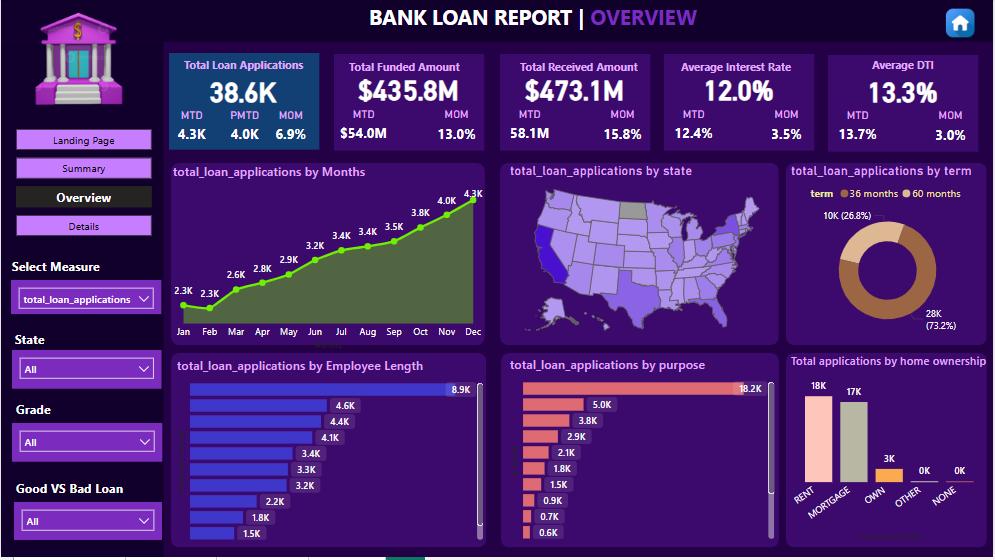

What the dashboard file says about the page in this screenshot:
{"tool":"powerbi","page":{"name":"Overview","canvas":[1280,720],"ordinal":2},"visuals":[{"type":"shape","box":[0,0,1279.8,55.3],"z":0},{"type":"shape","box":[0,55.3,209.8,664.7],"z":1000},{"type":"textbox","box":[469.1,0,443.6,56.7],"z":2000},{"type":"group","id":"g1","title":"Group 1","box":[206.9,69.4,206.9,124.7],"z":3000},{"type":"group","id":"g2","title":"Group 1","box":[428,70.9,199.8,124.7],"z":4000},{"type":"group","id":"g3","title":"Group 1","box":[642,70.9,198.4,124.7],"z":5000},{"type":"group","id":"g4","title":"Group 1","box":[854.6,70.9,197,124.7],"z":6000},{"type":"group","id":"g5","title":"Group 1","box":[1065.8,69.4,197,127.6],"z":7000},{"type":"shape","box":[216.8,69.4,194.2,124.7],"z":8000,"group":"g1"},{"type":"shape","box":[429,70.9,194.2,124.7],"z":8000,"group":"g2"},{"type":"shape","box":[643,70.9,194.2,124.7],"z":8000,"group":"g3"},{"type":"shape","box":[855.6,70.9,194.2,124.7],"z":8000,"group":"g4"},{"type":"shape","box":[1066.8,72.5,194.2,124.7],"z":8000,"group":"g5"},{"type":"group","id":"g6","title":"Group 2","box":[219.7,211.2,405,235],"z":8000},{"type":"shape","box":[219.7,211.2,405,235],"z":8000,"group":"g6"},{"type":"shape","box":[643.5,211.2,359.7,235],"z":8000,"group":"g10"},{"type":"shape","box":[1013.4,211.2,259.1,235],"z":8000,"group":"g11"},{"type":"shape","box":[219.7,456.4,406.8,250.9],"z":8000,"group":"g12"},{"type":"shape","box":[644.9,456.4,358.6,250.9],"z":8000,"group":"g13"},{"type":"shape","box":[1013.4,456.4,259.4,250.9],"z":8000,"group":"g14"},{"type":"card","fields":{"Values":["All Measures.Total Funded Amount"]},"box":[428,89.5,194.2,51],"z":8500,"group":"g2"},{"type":"card","fields":{"Values":["All Measures.Total Amount Received"]},"box":[642,89.5,194.2,51],"z":8500,"group":"g3"},{"type":"card","fields":{"Values":["All Measures.AVG interest rate"]},"box":[854.6,89.5,194.2,51],"z":8500,"group":"g4"},{"type":"card","fields":{"Values":["All Measures.AVG DTI"]},"box":[1065.8,91.1,194.2,51],"z":8500,"group":"g5"},{"type":"card","fields":{"Values":["All Measures.total_loan_applications"]},"box":[256.8,95.1,110.6,43.9],"z":8500,"group":"g1"},{"type":"textbox","box":[231,69.4,182.8,31.2],"z":9000,"group":"g1"},{"type":"textbox","box":[1118.2,69.4,137.5,35.4],"z":9000,"group":"g5"},{"type":"textbox","box":[443.9,72.5,184.3,34],"z":9000,"group":"g2"},{"type":"textbox","box":[663.8,72.5,172.9,34],"z":9000,"group":"g3"},{"type":"textbox","box":[873.2,72.5,178.6,34],"z":9000,"group":"g4"},{"type":"group","id":"g7","title":"Group 3","box":[12.5,423.9,194.4,79.1],"z":9000},{"type":"card","title":"MTD","fields":{"Values":["All Measures.MTD funded amount"]},"box":[428.3,140.5,79.4,52.4],"z":9500,"group":"g2"},{"type":"card","title":"MTD","fields":{"Values":["All Measures.MTD received amount"]},"box":[642.3,140.5,79.4,52.4],"z":9500,"group":"g3"},{"type":"card","title":"MTD","fields":{"Values":["All Measures.MTD AVG interest rate"]},"box":[854.9,140.5,79.4,52.4],"z":9500,"group":"g4"},{"type":"card","title":"MTD","fields":{"Values":["All Measures.MTD"]},"box":[206.9,141.7,79.4,52.4],"z":9500,"group":"g1"},{"type":"card","title":"MTD","fields":{"Values":["All Measures.MTD AVG DTI"]},"box":[1066.1,142.1,79.4,52.4],"z":9500,"group":"g5"},{"type":"card","title":"PMTD","fields":{"Values":["All Measures.PMTD"]},"box":[274.9,141.7,79.4,52.4],"z":10000,"group":"g1"},{"type":"group","id":"g8","title":"Group 4","box":[14.2,513.1,194.2,83.6],"z":10000},{"type":"card","title":"MOM","fields":{"Values":["All Measures.MOM funded amount"]},"box":[548.8,140.5,76.5,55.3],"z":10500,"group":"g2"},{"type":"card","title":"MOM","fields":{"Values":["All Measures.MOM received amount"]},"box":[762.8,140.5,76.5,55.3],"z":10500,"group":"g3"},{"type":"card","title":"MOM","fields":{"Values":["All Measures.MOM AVG interest rate"]},"box":[975.4,140.5,76.5,55.3],"z":10500,"group":"g4"},{"type":"card","title":"MOM","fields":{"Values":["All Measures.MOM loan applications"]},"box":[334.5,141.7,79.4,52.4],"z":10500,"group":"g1"},{"type":"card","title":"MOM","fields":{"Values":["All Measures.MOM AVG DTI"]},"box":[1186.6,142.1,76.5,55.3],"z":10500,"group":"g5"},{"type":"group","id":"g9","title":"Group 5","box":[14.2,615.1,192.8,83.6],"z":11000},{"type":"areaChart","fields":{"Y":["All Measures.total_loan_applications"],"Category":["Date table.Months"]},"box":[216.9,211.2,411,245.2],"z":12000},{"type":"textbox","box":[12.5,423.9,79.4,32.6],"z":12000,"group":"g7"},{"type":"group","id":"g10","title":"Group 2","box":[643.5,211.2,360,235.3],"z":13000},{"type":"slicer","fields":{"Values":["Select Measure.Select Measure"]},"box":[12.8,362.8,194.2,43.9],"z":13000,"group":"g15"},{"type":"shapeMap","fields":{"Value":["All Measures.total_loan_applications"],"Category":["bank_loan.address_state"]},"box":[652,211.2,351.5,231],"z":14000},{"type":"group","id":"g11","title":"Group 2","box":[1013.4,211.2,259.4,235.3],"z":15000},{"type":"group","id":"g12","title":"Group 2","box":[219.7,456.4,406.8,250.9],"z":16000},{"type":"donutChart","fields":{"Y":["All Measures.total_loan_applications"],"Category":["bank_loan.term"]},"box":[1014.8,211.2,259.4,229.6],"z":17000},{"type":"slicer","fields":{"Values":["bank_loan.address_state"]},"box":[14.2,453.4,192.8,49.6],"z":17000,"group":"g7"},{"type":"group","id":"g13","title":"Group 2","box":[644.9,456.4,358.6,250.9],"z":18000},{"type":"slicer","fields":{"Values":["bank_loan.grade"]},"box":[14.2,547.1,194.2,49.6],"z":18000,"group":"g8"},{"type":"barChart","fields":{"Y":["All Measures.total_loan_applications"],"Category":["bank_loan.emp_length"]},"box":[222.5,462,405.4,240.9],"z":19000},{"type":"slicer","fields":{"Values":["bank_loan.Good Loan VS Bad Loan"]},"box":[16.4,649.3,190.6,49.5],"z":19000,"group":"g9"},{"type":"barChart","fields":{"Y":["All Measures.total_loan_applications"],"Category":["bank_loan.purpose"]},"box":[652,460.6,351.5,240.9],"z":20000},{"type":"textbox","box":[14.2,513.1,67.4,34],"z":20000,"group":"g8"},{"type":"group","id":"g14","title":"Group 2","box":[1013.4,456.4,259.4,250.9],"z":21000},{"type":"textbox","box":[14.2,615.1,178.4,33.9],"z":21000,"group":"g9"},{"type":"clusteredColumnChart","title":"Total applications by home ownership","fields":{"Y":["All Measures.total_loan_applications"],"Category":["bank_loan.home_ownership"]},"box":[1014.8,456.4,265,246.6],"z":22000},{"type":"image","box":[18.4,0,168.7,151.7],"z":23000},{"type":"pageNavigator","box":[19.8,167.2,175.7,141.7],"z":24000},{"type":"group","id":"g15","title":"Group 6","box":[8.5,328.8,198.4,78],"z":25000},{"type":"image","box":[1214.6,7.1,46.8,48.2],"z":26000},{"type":"textbox","box":[8.5,328.8,137.5,34],"z":26000,"group":"g15"}]}

Visuals, with their boxes in screenshot pixels (x1, y1, x2, y2), scaled from the page's 1280x720 canvas onto the 995x560 screenshot:
shape: (x1=0, y1=0, x2=994, y2=43)
shape: (x1=0, y1=43, x2=163, y2=559)
textbox: (x1=365, y1=0, x2=709, y2=44)
"Group 1" group: (x1=161, y1=54, x2=322, y2=151)
"Group 1" group: (x1=333, y1=55, x2=488, y2=152)
"Group 1" group: (x1=499, y1=55, x2=653, y2=152)
"Group 1" group: (x1=664, y1=55, x2=817, y2=152)
"Group 1" group: (x1=828, y1=54, x2=982, y2=153)
shape: (x1=169, y1=54, x2=319, y2=151)
shape: (x1=333, y1=55, x2=484, y2=152)
shape: (x1=500, y1=55, x2=651, y2=152)
shape: (x1=665, y1=55, x2=816, y2=152)
shape: (x1=829, y1=56, x2=980, y2=153)
"Group 2" group: (x1=171, y1=164, x2=486, y2=347)
shape: (x1=171, y1=164, x2=486, y2=347)
shape: (x1=500, y1=164, x2=780, y2=347)
shape: (x1=788, y1=164, x2=989, y2=347)
shape: (x1=171, y1=355, x2=487, y2=550)
shape: (x1=501, y1=355, x2=780, y2=550)
shape: (x1=788, y1=355, x2=989, y2=550)
card - All Measures.Total Funded Amount: (x1=333, y1=70, x2=484, y2=109)
card - All Measures.Total Amount Received: (x1=499, y1=70, x2=650, y2=109)
card - All Measures.AVG interest rate: (x1=664, y1=70, x2=815, y2=109)
card - All Measures.AVG DTI: (x1=828, y1=71, x2=979, y2=111)
card - All Measures.total_loan_applications: (x1=200, y1=74, x2=286, y2=108)
textbox: (x1=180, y1=54, x2=322, y2=78)
textbox: (x1=869, y1=54, x2=976, y2=82)
textbox: (x1=345, y1=56, x2=488, y2=83)
textbox: (x1=516, y1=56, x2=650, y2=83)
textbox: (x1=679, y1=56, x2=818, y2=83)
"Group 3" group: (x1=10, y1=330, x2=161, y2=391)
"MTD" card: (x1=333, y1=109, x2=395, y2=150)
"MTD" card: (x1=499, y1=109, x2=561, y2=150)
"MTD" card: (x1=665, y1=109, x2=726, y2=150)
"MTD" card: (x1=161, y1=110, x2=223, y2=151)
"MTD" card: (x1=829, y1=111, x2=890, y2=151)
"PMTD" card: (x1=214, y1=110, x2=275, y2=151)
"Group 4" group: (x1=11, y1=399, x2=162, y2=464)
"MOM" card: (x1=427, y1=109, x2=486, y2=152)
"MOM" card: (x1=593, y1=109, x2=652, y2=152)
"MOM" card: (x1=758, y1=109, x2=818, y2=152)
"MOM" card: (x1=260, y1=110, x2=322, y2=151)
"MOM" card: (x1=922, y1=111, x2=982, y2=154)
"Group 5" group: (x1=11, y1=478, x2=161, y2=543)
areaChart - All Measures.total_loan_applications x Date table.Months: (x1=169, y1=164, x2=488, y2=355)
textbox: (x1=10, y1=330, x2=71, y2=355)
"Group 2" group: (x1=500, y1=164, x2=780, y2=347)
slicer - Select Measure.Select Measure: (x1=10, y1=282, x2=161, y2=316)
shapeMap - All Measures.total_loan_applications x bank_loan.address_state: (x1=507, y1=164, x2=780, y2=344)
"Group 2" group: (x1=788, y1=164, x2=989, y2=347)
"Group 2" group: (x1=171, y1=355, x2=487, y2=550)
donutChart - All Measures.total_loan_applications x bank_loan.term: (x1=789, y1=164, x2=990, y2=343)
slicer - bank_loan.address_state: (x1=11, y1=353, x2=161, y2=391)
"Group 2" group: (x1=501, y1=355, x2=780, y2=550)
slicer - bank_loan.grade: (x1=11, y1=426, x2=162, y2=464)
barChart - All Measures.total_loan_applications x bank_loan.emp_length: (x1=173, y1=359, x2=488, y2=547)
slicer - bank_loan.Good Loan VS Bad Loan: (x1=13, y1=505, x2=161, y2=544)
barChart - All Measures.total_loan_applications x bank_loan.purpose: (x1=507, y1=358, x2=780, y2=546)
textbox: (x1=11, y1=399, x2=63, y2=426)
"Group 2" group: (x1=788, y1=355, x2=989, y2=550)
textbox: (x1=11, y1=478, x2=150, y2=505)
"Total applications by home ownership" clusteredColumnChart: (x1=789, y1=355, x2=994, y2=547)
image: (x1=14, y1=0, x2=145, y2=118)
pageNavigator: (x1=15, y1=130, x2=152, y2=240)
"Group 6" group: (x1=7, y1=256, x2=161, y2=316)
image: (x1=944, y1=6, x2=981, y2=43)
textbox: (x1=7, y1=256, x2=113, y2=282)
